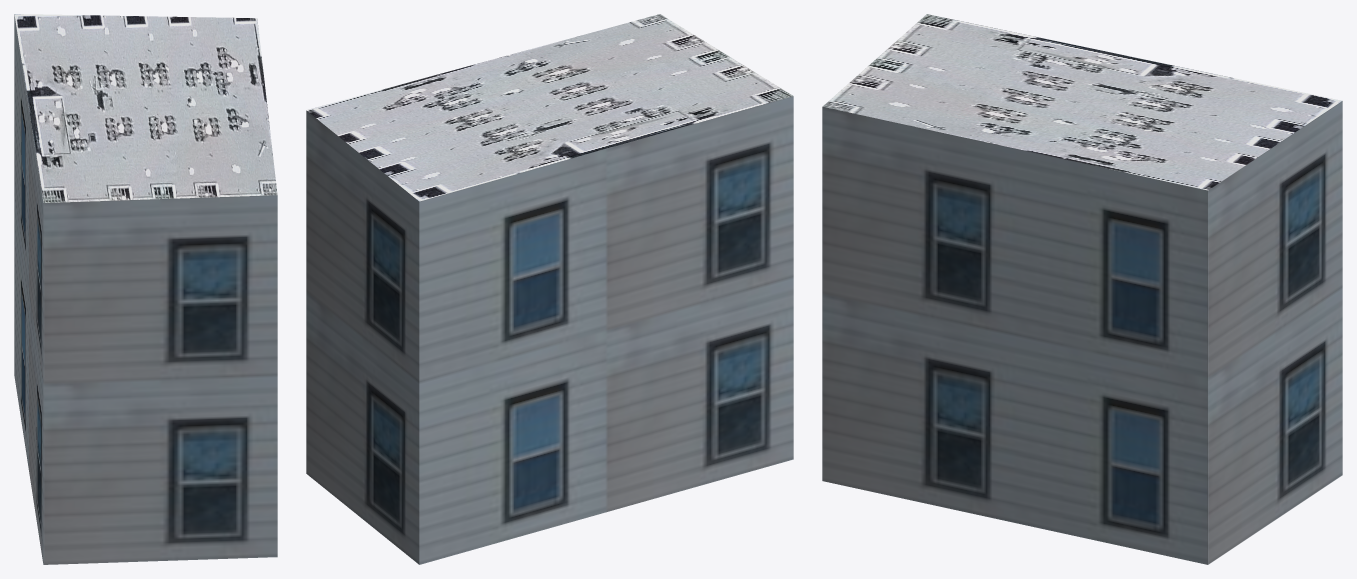
The model's file is ResTex__4893.fbx.
3 renders of one model, left to right at view 1: azimuth 30°, elevation 25°; view 2: azimuth 150°, elevation 25°; view 3: azimuth 270°, elevation 25°, orthographic. The views are drawn at different scales.
Visible parts, largest first — view 1: CityEngineMaterial_18_m, CityEngineMaterial_m; view 2: CityEngineMaterial_18_m, CityEngineMaterial_m; view 3: CityEngineMaterial_18_m, CityEngineMaterial_m.
Part boxes in pixels (left/top/right/bottom): CityEngineMaterial_18_m: left=14, top=14, right=277, bottom=564; CityEngineMaterial_m: left=14, top=14, right=277, bottom=202; CityEngineMaterial_18_m: left=306, top=96, right=793, bottom=564; CityEngineMaterial_m: left=306, top=14, right=793, bottom=201; CityEngineMaterial_18_m: left=822, top=101, right=1342, bottom=564; CityEngineMaterial_m: left=823, top=14, right=1342, bottom=190.
Size of the model in its own units: 6.07 by 6 by 7.56.
2 materials, 2 textured.
